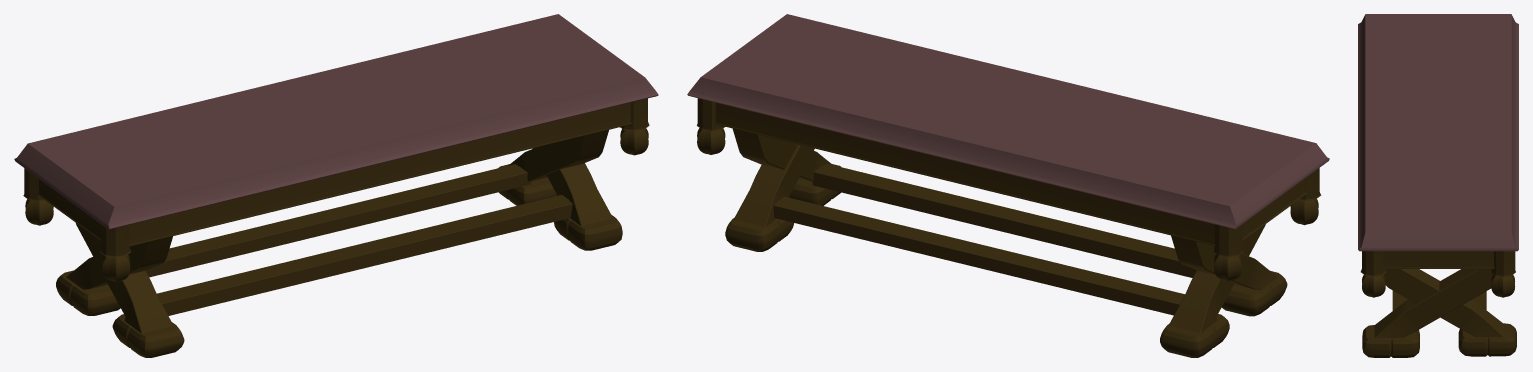
File: Bettererer_seat.fbx
The picture shows the model from 3 angles, left to right: view 1: azimuth 30°, elevation 25°; view 2: azimuth 150°, elevation 25°; view 3: azimuth 270°, elevation 25°; orthographic projection. The views are drawn at different scales.
Parts seen in each view (by area): view 1: rosy, wogs1; view 2: rosy, wogs1; view 3: rosy, wogs1.
Boxes of the visible parts, box(x1,y1,x2,y2) form: rosy: box(14, 14, 658, 229); wogs1: box(23, 98, 649, 357); rosy: box(687, 14, 1329, 229); wogs1: box(697, 93, 1321, 357); rosy: box(1358, 14, 1518, 251); wogs1: box(1360, 251, 1516, 357).
Bounding box in the file's own units: 13.57 × 3.83 × 4.08.
